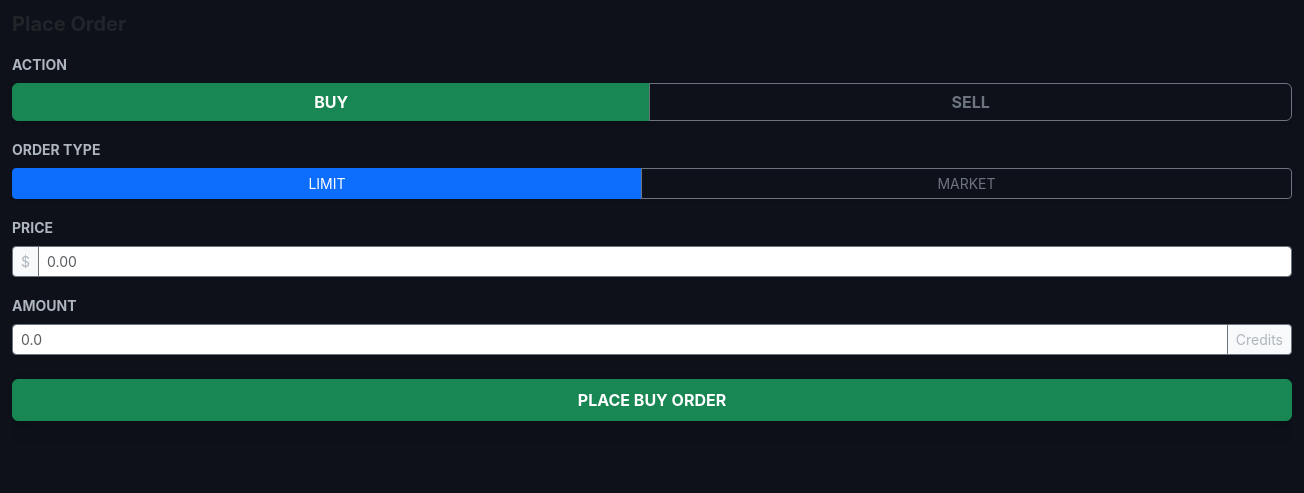
Scenario: TradingForm › should submit order successfully
The image size is (1304, 493).
Type "10.50" into the number field labelled "Price".
click(665, 262); type("10.50")  # box [38, 246, 1292, 277]
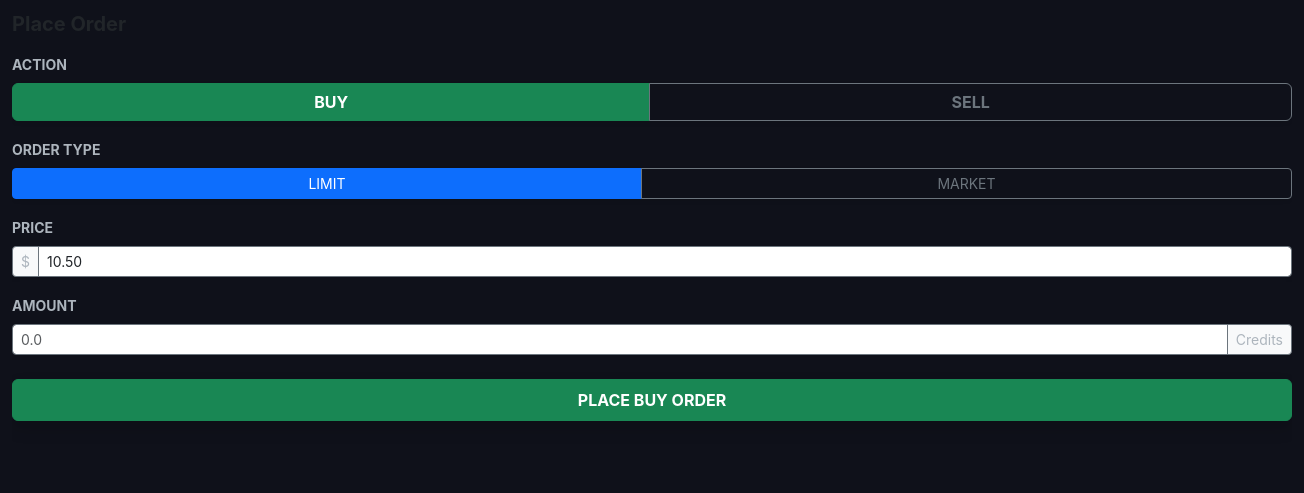
Type "5" into the number field labelled "Amount".
click(620, 340); type("5")  # box [12, 324, 1228, 355]
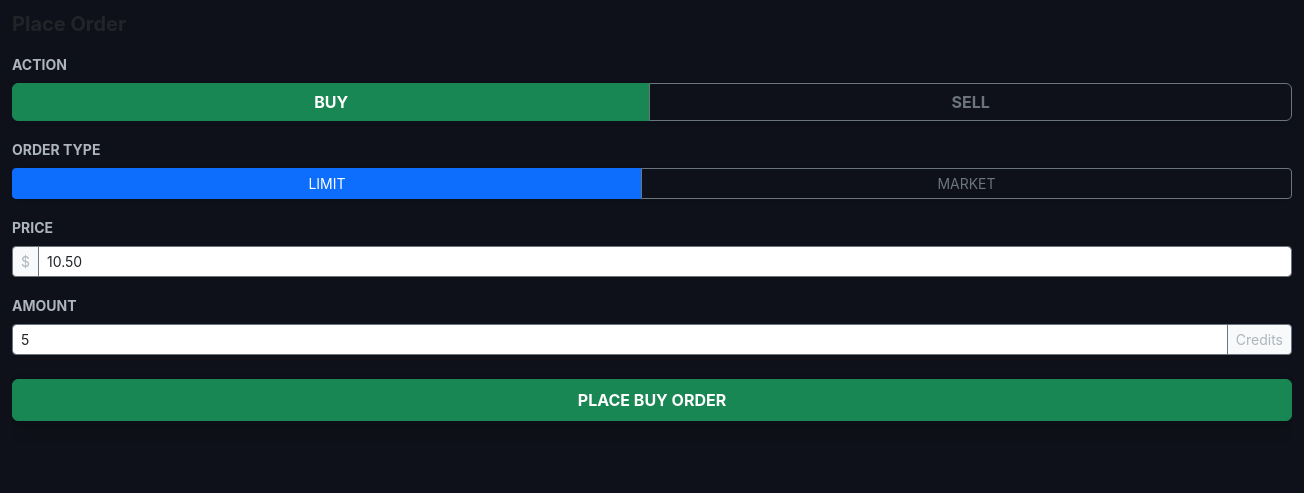
Click the button "PLACE BUY ORDER".
click(652, 400)  # box [12, 379, 1292, 421]
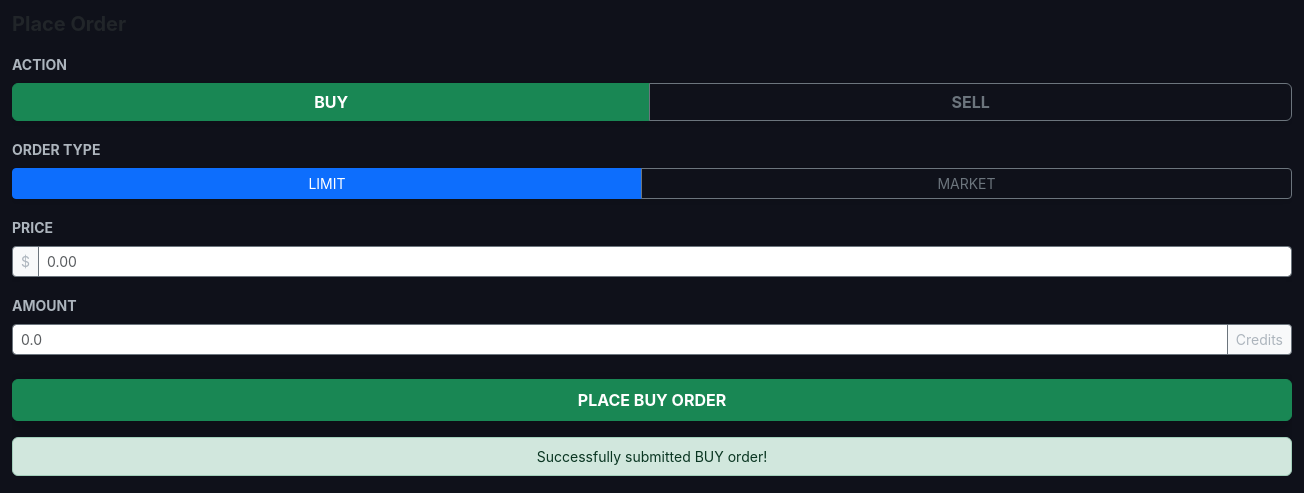
Result: the text "Successfully submitted BUY order!" is shown at [12, 437, 1292, 476]
